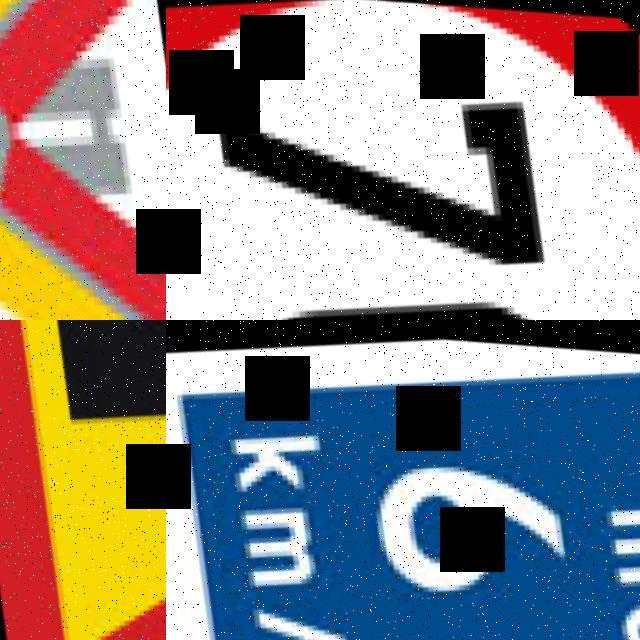166: (0, 320, 166, 640)
62: (0, 0, 166, 320)
speed limit-60: (166, 320, 640, 640)
speed limit-70: (166, 0, 640, 320)
